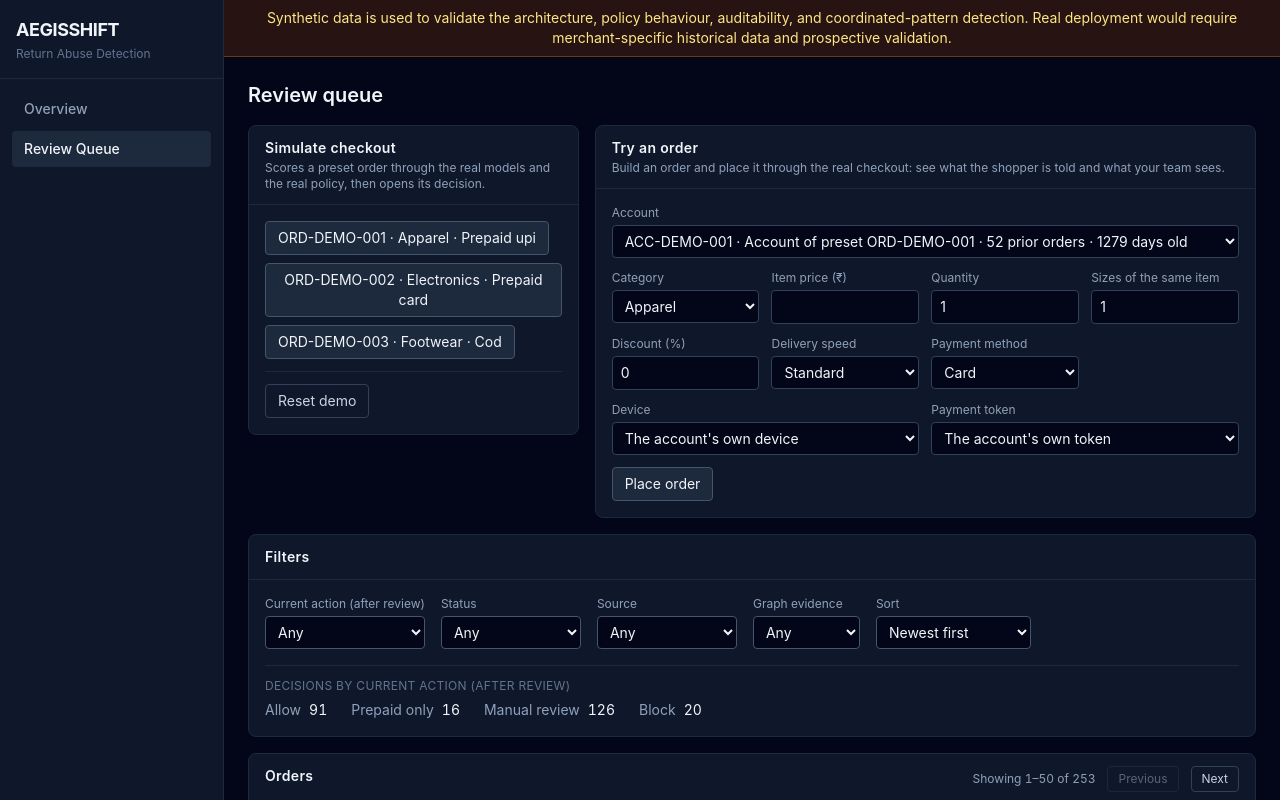
it: the form builds a request the server contract accepts › nulls the token for cash on delivery and hides the token field
Expected: the form with test id "try-form" is shown, [612,205,1239,501]
Expected: the dropdown labelled "Payment token" is shown, [931,422,1239,455]
Select "Cash on delivery" in the dropdown labelled "Payment method": x=1005, y=372 [931,356,1079,389]
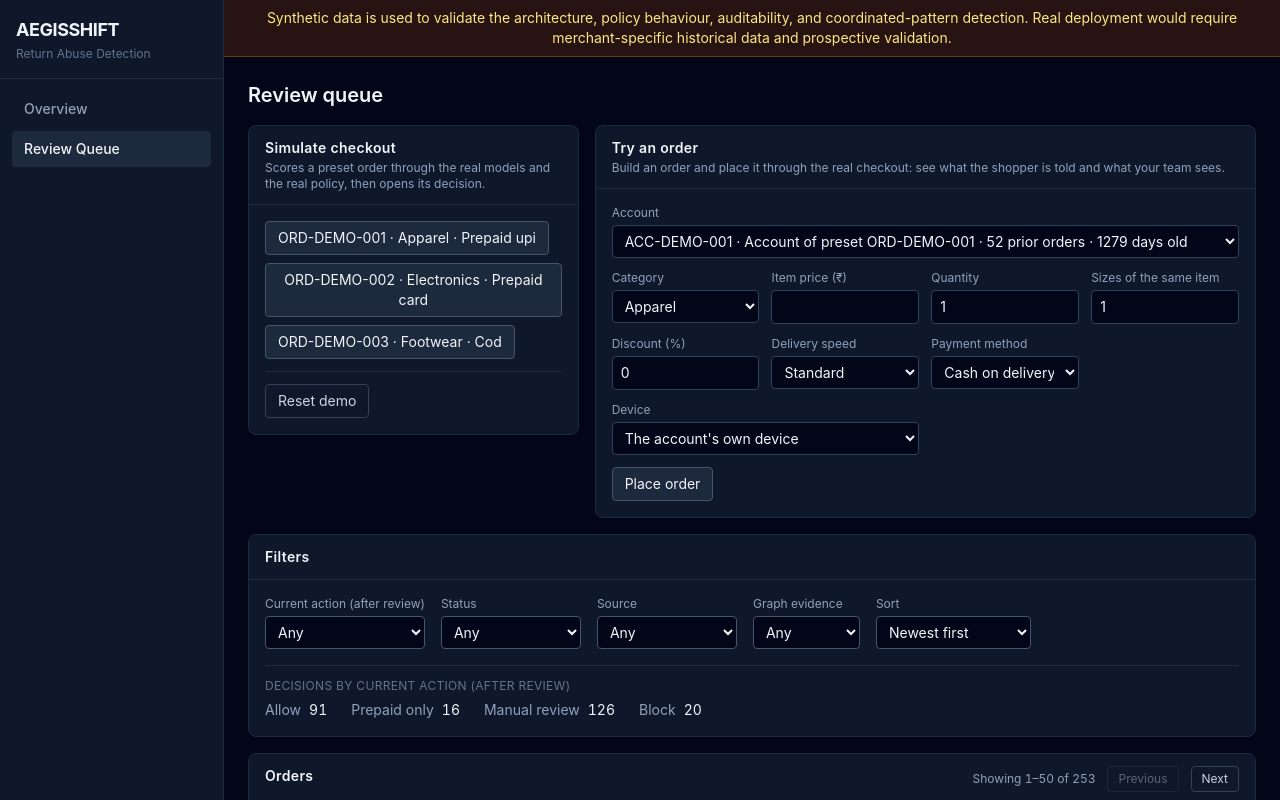
Expected: the label labelled "Payment token" is gone
